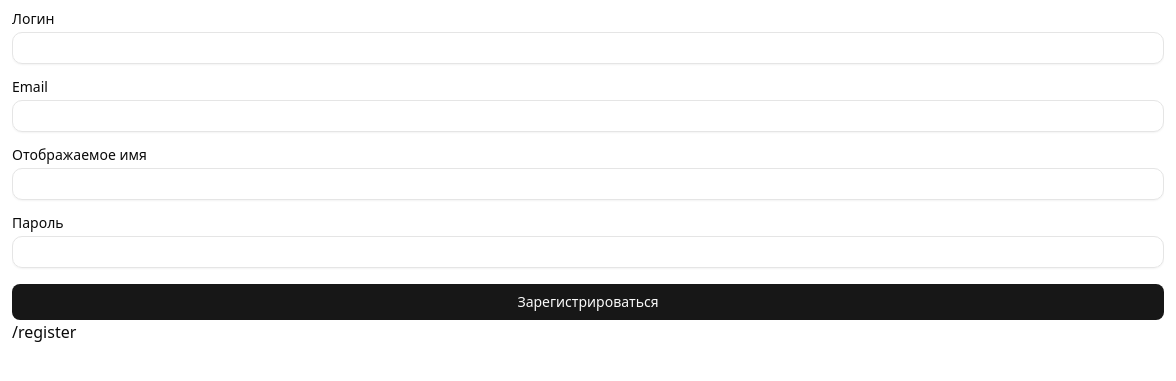
RegisterForm › клиентская валидация email не пускает пустой запрос на backend
In the field labelled "Логин": (588, 48) x1=12 y1=32 x2=1164 y2=64, type "newplayer"
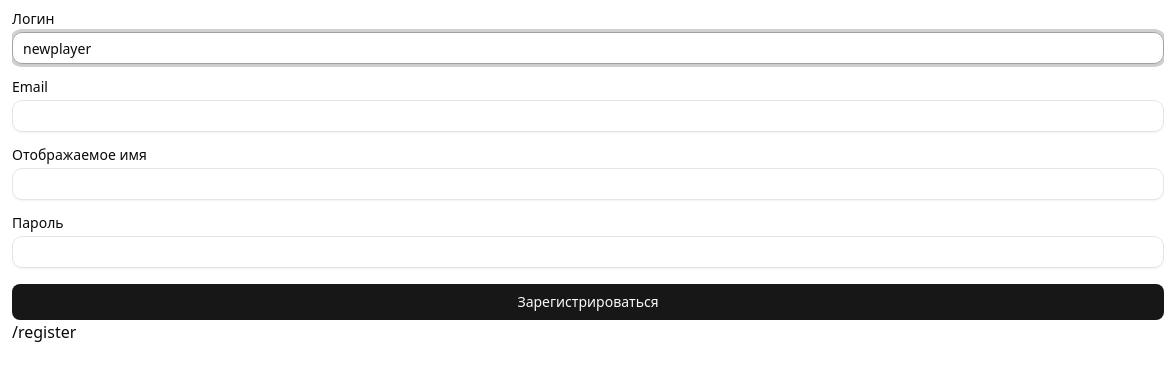
In the password field labelled "Пароль": (588, 252) x1=12 y1=236 x2=1164 y2=268, type "validpass"
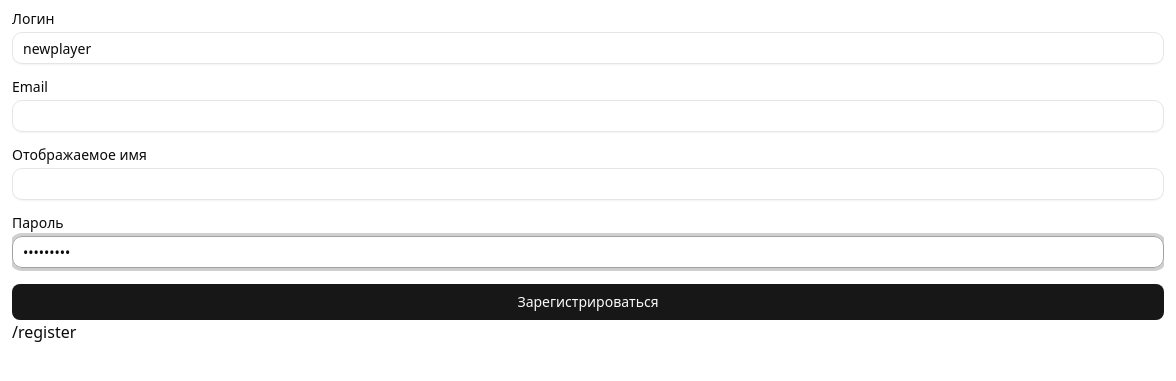
Note: email специально не заполнен
Click the button "Зарегистрироваться": (588, 302) x1=12 y1=284 x2=1164 y2=320
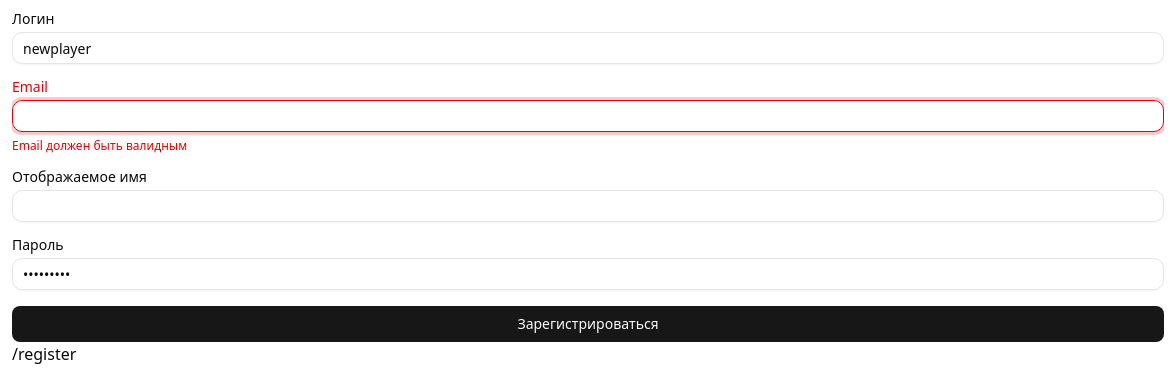
Now the text "Email должен быть валидным" is shown, box x1=12 y1=137 x2=187 y2=154
